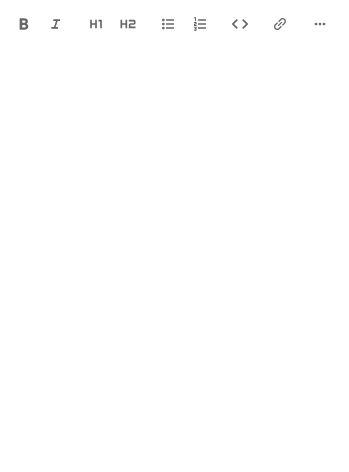
Test case: FormattingToolbar › closes overflow menu after selecting item
This screenshot has width=349, height=472.
Click the button named "More formatting options": (320, 24) [308, 12, 332, 36]
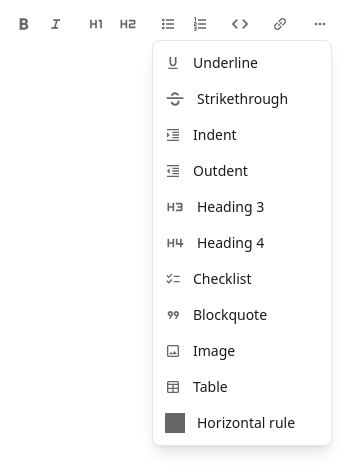
Click the menu item "Underline": (242, 63) [153, 45, 331, 81]
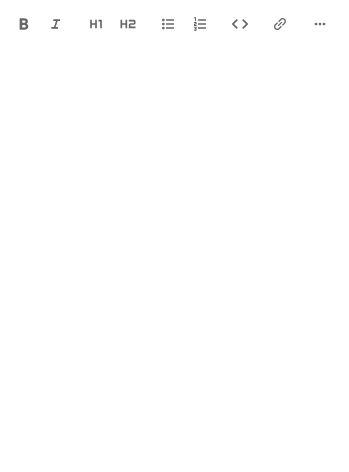
Result: the menu is gone
